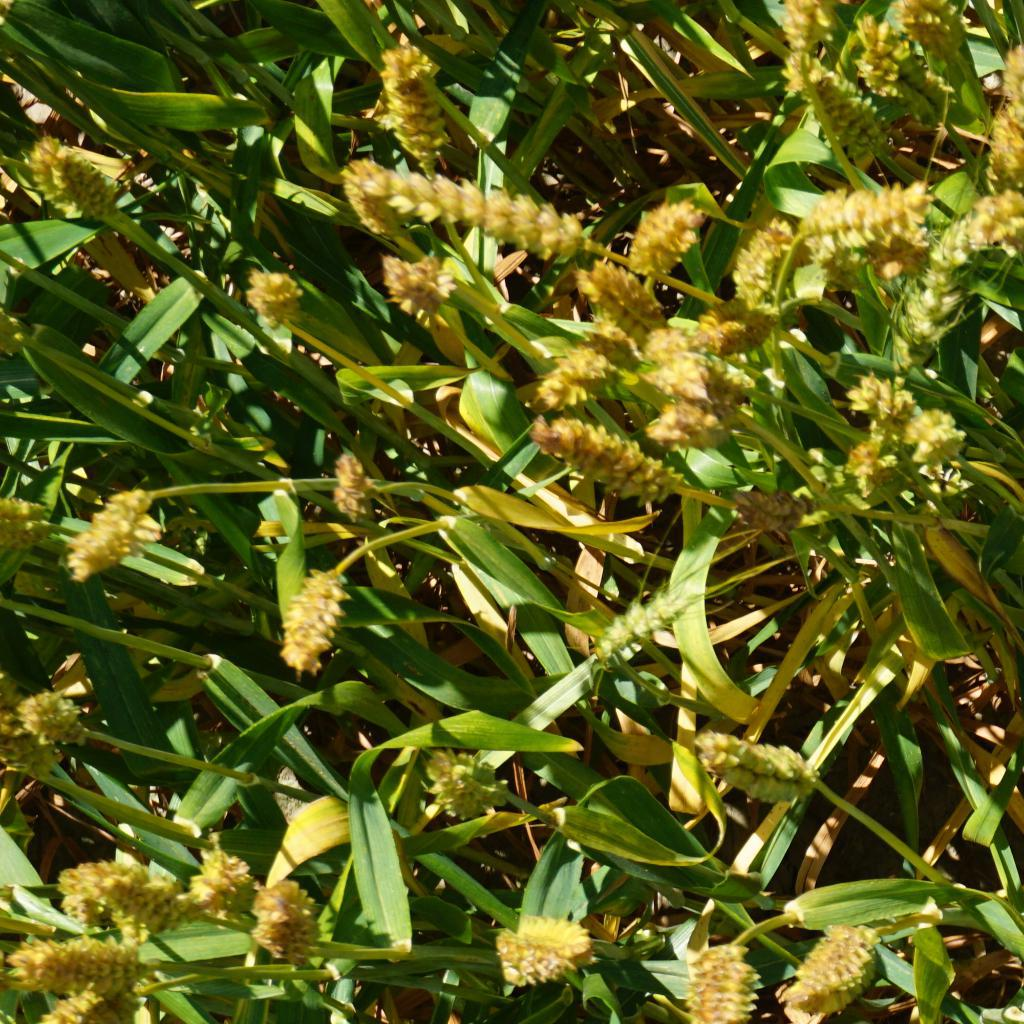0-0: (382, 169, 585, 268), (537, 408, 695, 517), (772, 915, 901, 1022), (695, 723, 822, 811), (379, 41, 457, 179), (786, 176, 925, 251), (786, 49, 879, 153), (7, 925, 142, 994), (86, 851, 193, 937), (274, 551, 342, 677), (245, 880, 340, 970), (677, 935, 771, 1024), (486, 914, 595, 989), (854, 4, 932, 102), (914, 214, 968, 348), (731, 220, 809, 311), (80, 483, 150, 579), (526, 348, 623, 415), (186, 841, 264, 922), (419, 736, 504, 809), (644, 328, 733, 396), (587, 581, 676, 648), (341, 149, 409, 233), (324, 439, 386, 530), (382, 248, 464, 316), (631, 193, 702, 270), (35, 135, 105, 210), (689, 300, 782, 356), (839, 433, 914, 500), (583, 257, 656, 321), (648, 392, 739, 443), (21, 678, 92, 742), (0, 709, 58, 783), (729, 474, 805, 528), (34, 982, 131, 1024), (236, 265, 303, 325), (51, 864, 111, 931), (903, 0, 967, 62), (0, 493, 64, 554), (844, 362, 915, 415), (905, 403, 961, 459), (982, 193, 1024, 267), (580, 314, 638, 365), (987, 122, 1024, 200), (783, 0, 839, 49), (998, 34, 1024, 128), (997, 987, 1024, 1024)
